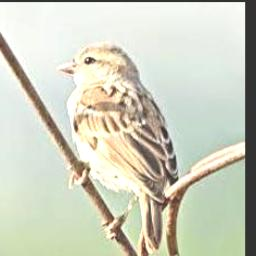Sparrow: (56, 43, 178, 254)
